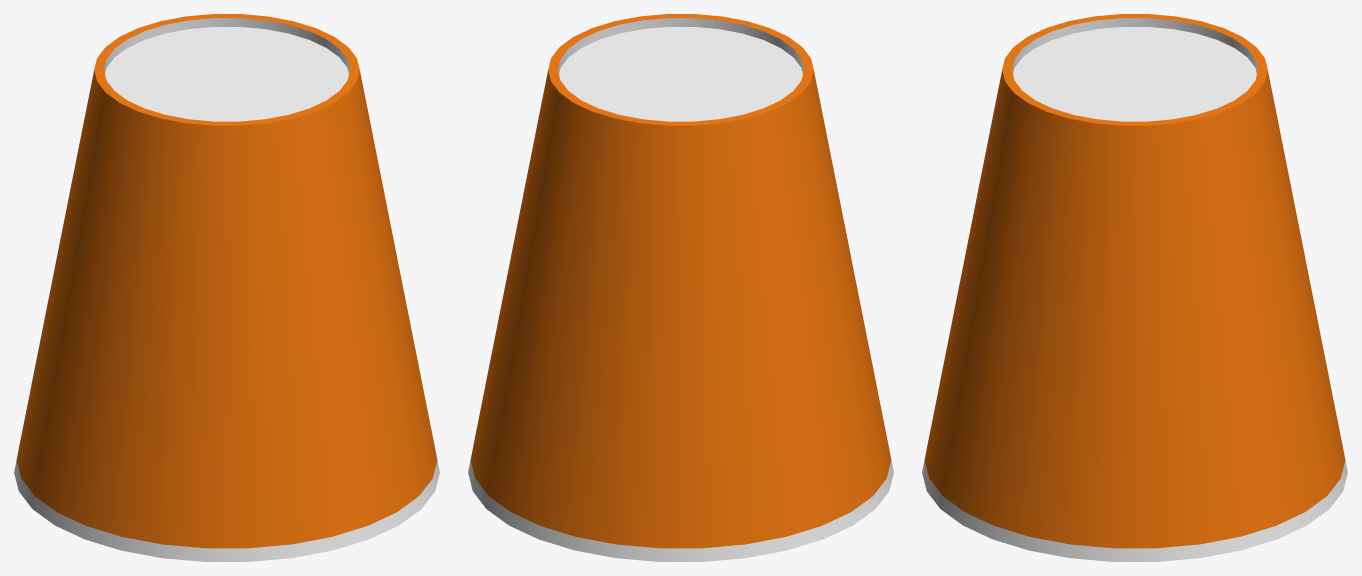
Rendered from cup.fbx.
The picture shows the model from 3 angles, left to right: view 1: azimuth 30°, elevation 25°; view 2: azimuth 150°, elevation 25°; view 3: azimuth 270°, elevation 25°; orthographic projection.
Parts seen in each view (by area): view 1: cup; view 2: cup; view 3: cup.
Boxes of the visible parts, bbox=[...] form: cup: bbox=[14, 14, 439, 561]; cup: bbox=[468, 14, 893, 561]; cup: bbox=[922, 14, 1347, 561].
Bounding box in the file's own units: 0.1243 × 0.1304 × 0.125.
1 material, 1 textured.
